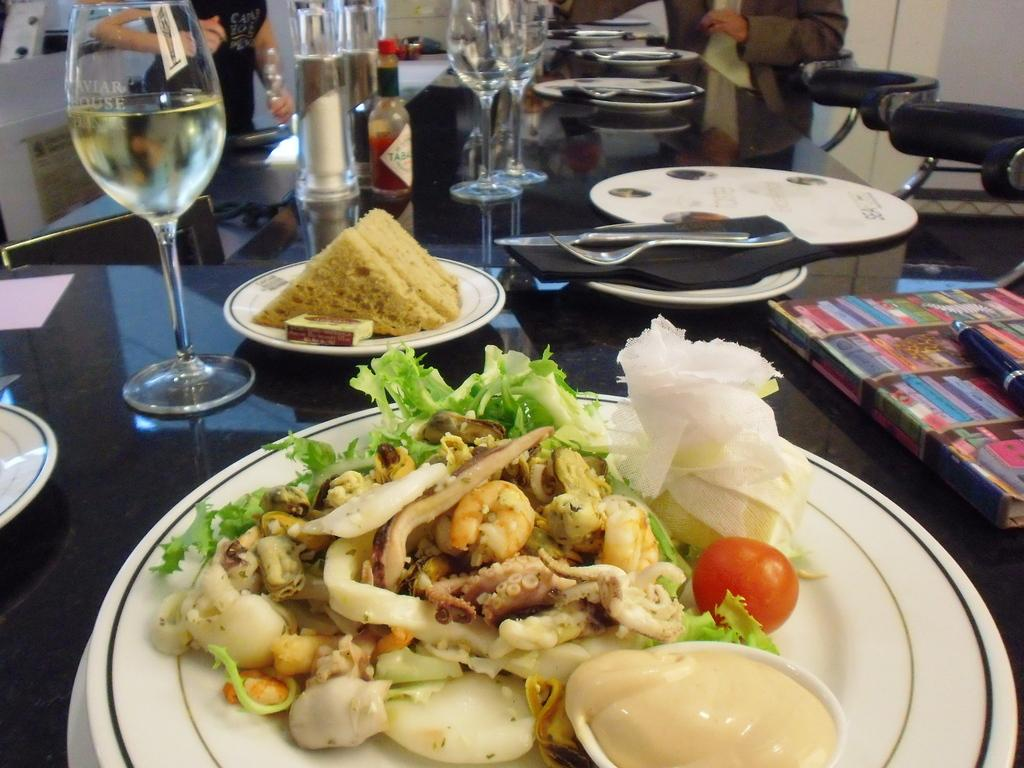Book: (765, 288, 1023, 527)
